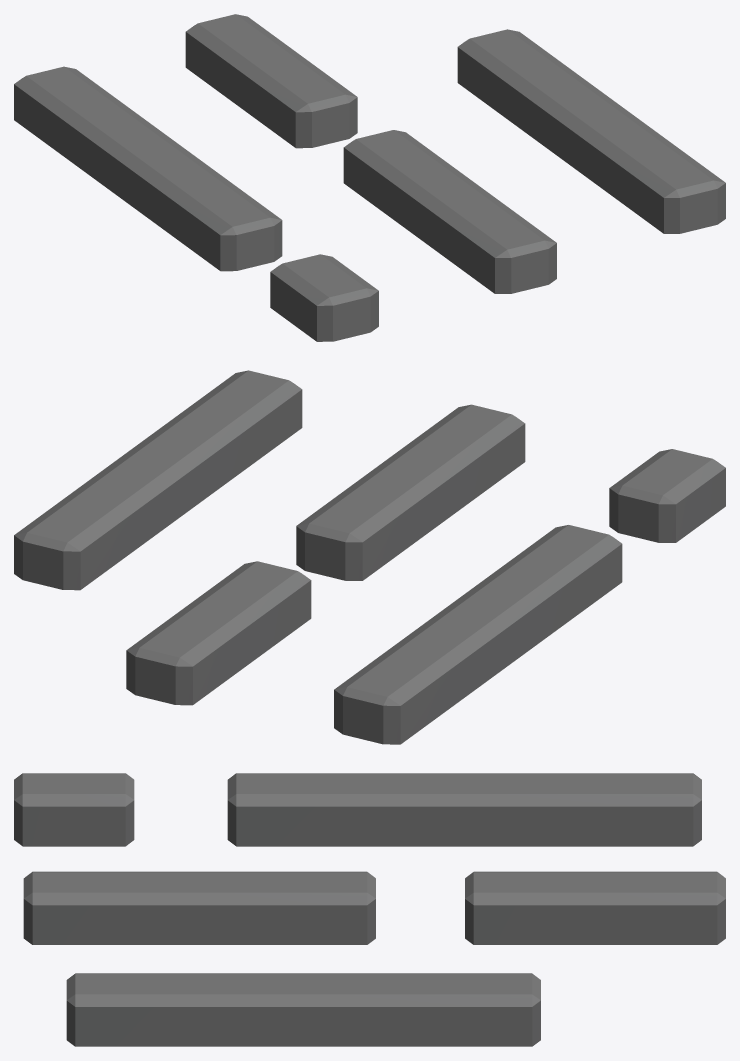
The model's file is Signs_1_3.obj.
3 views of the same model, one above another, from view 1: azimuth 30°, elevation 25°; view 2: azimuth 150°, elevation 25°; view 3: azimuth 270°, elevation 25° (orthographic). The views are drawn at different scales.
Parts seen in each view (by area): view 1: Signs_1_3; view 2: Signs_1_3; view 3: Signs_1_3.
Part boxes in pixels (x1=…): Signs_1_3: x1=14, y1=14, x2=725, y2=341; Signs_1_3: x1=14, y1=370, x2=725, y2=744; Signs_1_3: x1=14, y1=773, x2=725, y2=1046.
Size of the model in its own units: 0.3627 by 0.0331 by 0.4668.
